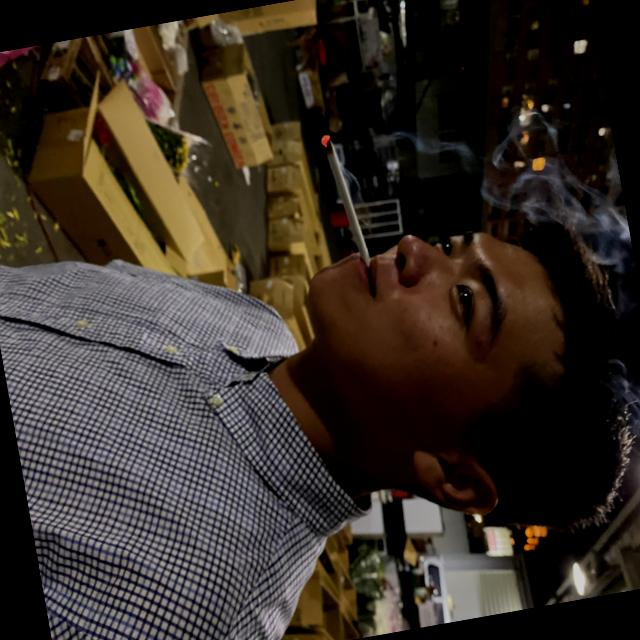cigarette: (302, 113, 372, 284)
